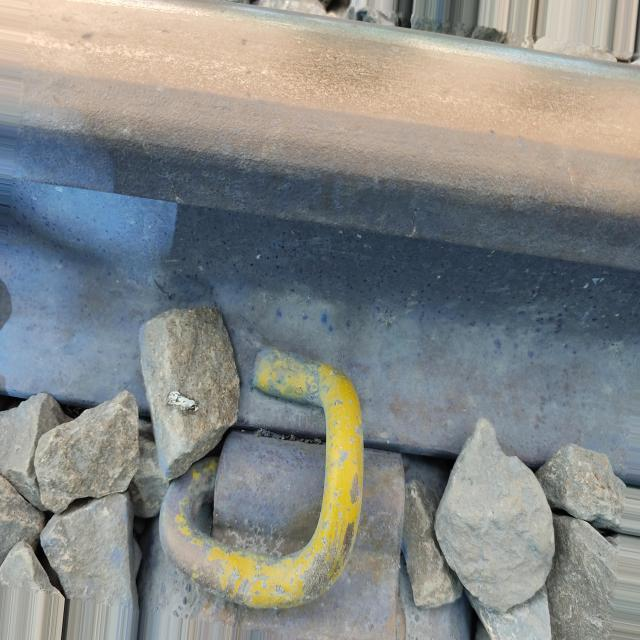Good Fasteners: (159, 348, 404, 638)
